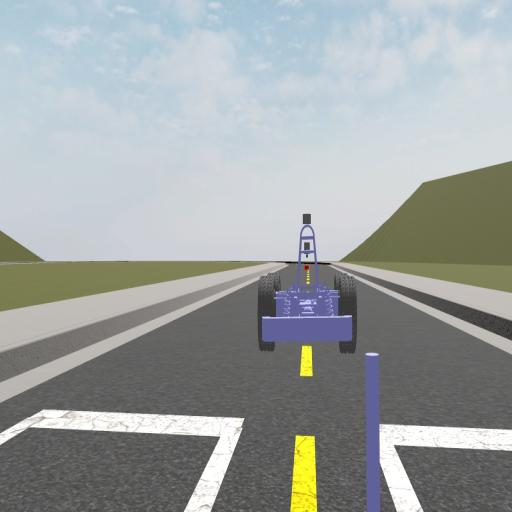ERP-42: (257, 214, 357, 354)
